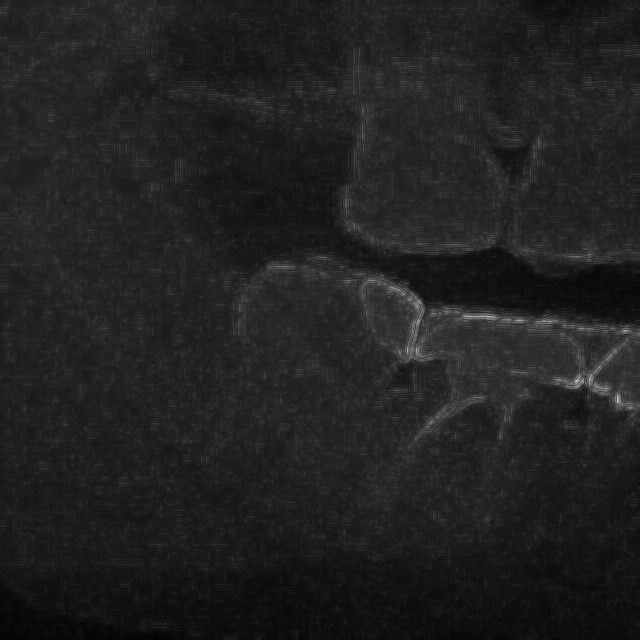Class 1- complete endodontic treatment: (336, 269, 590, 585)
